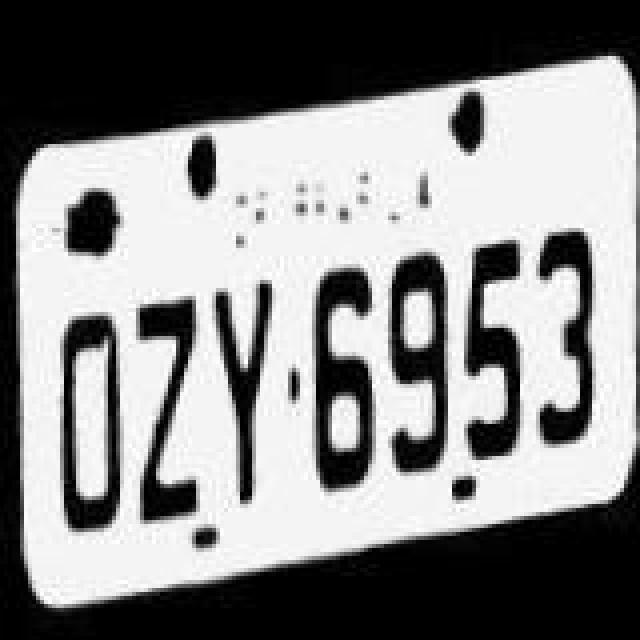3: (522, 200, 606, 464)
5: (440, 208, 528, 480)
6: (296, 254, 388, 518)
9: (378, 236, 450, 496)
O: (44, 298, 132, 550)
Y: (200, 272, 276, 528)
Z: (124, 288, 212, 548)
